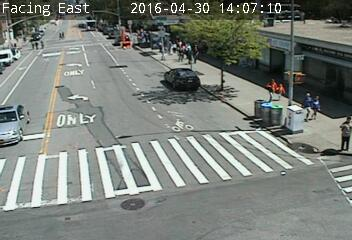neg: (170, 64, 189, 90), (120, 32, 132, 49), (103, 23, 112, 35), (300, 10, 307, 19), (340, 1, 344, 6)
pos: (296, 90, 319, 121), (334, 114, 351, 151), (310, 93, 329, 118), (261, 75, 280, 100), (275, 80, 289, 100), (175, 43, 189, 61), (190, 44, 202, 59), (155, 39, 165, 54), (170, 41, 180, 54), (55, 29, 63, 40), (39, 39, 47, 49), (29, 42, 35, 51), (35, 41, 40, 48)
